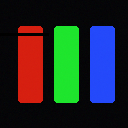3 line_h: (0, 33, 48, 35)
